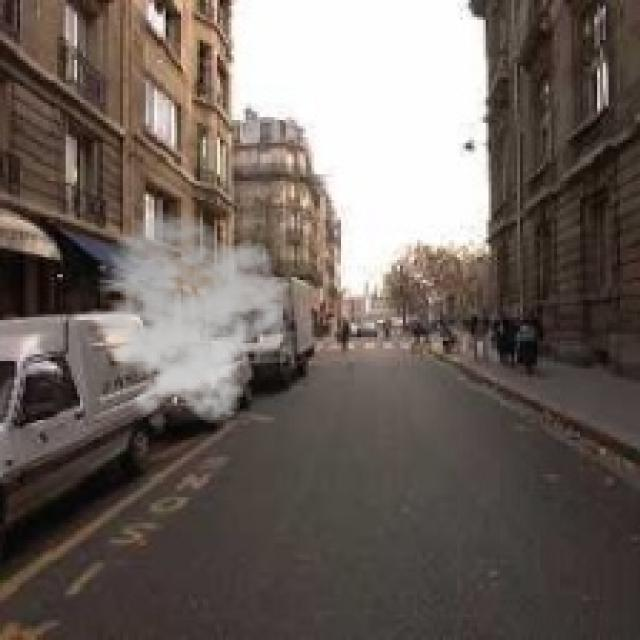Smoke: (72, 211, 294, 426)
